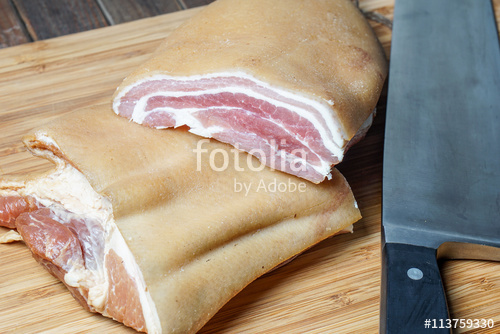bacon: (126, 45, 345, 176), (26, 149, 166, 328)
